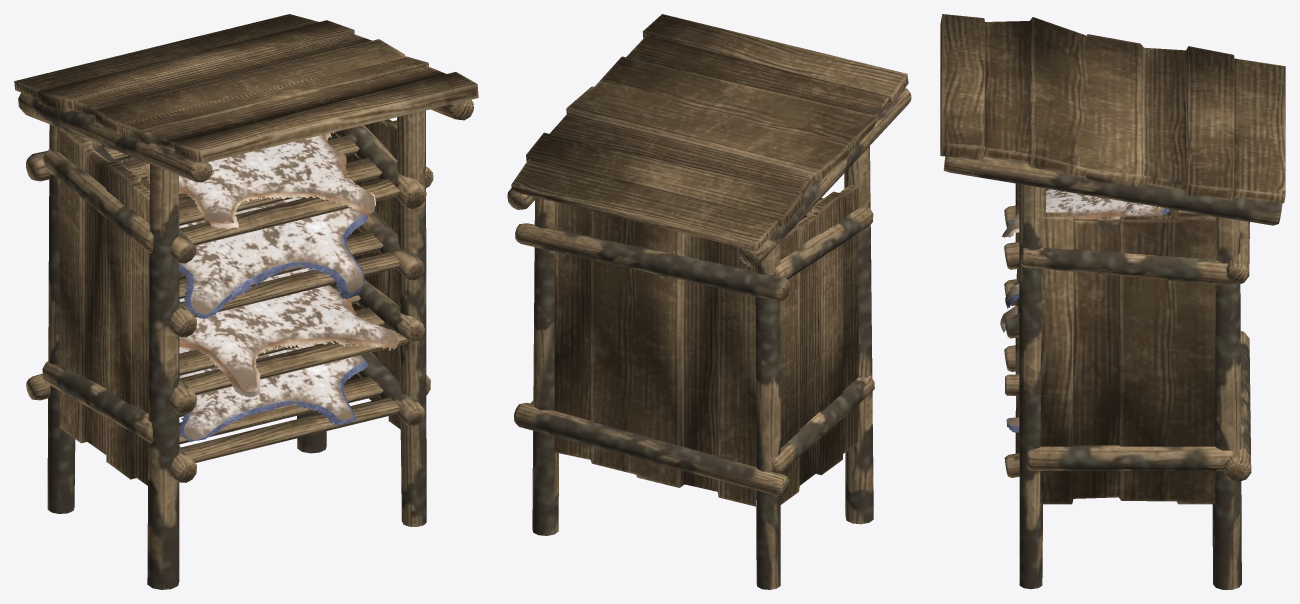
File: drying_rack.glb
3 views of the same model, side by side, from view 1: azimuth 30°, elevation 25°; view 2: azimuth 150°, elevation 25°; view 3: azimuth 270°, elevation 25° (orthographic). The views are drawn at different scales.
Parts seen in each view (by area): view 1: npc_props_drying_rack_01; view 2: npc_props_drying_rack_01; view 3: npc_props_drying_rack_01.
Boxes of the visible parts, x1,y1,x2,y2 form: npc_props_drying_rack_01: (14,14,478,589); npc_props_drying_rack_01: (507,14,911,589); npc_props_drying_rack_01: (940,14,1285,589).
Size of the model in its own units: 1.7 by 2.54 by 1.77.
Materials: 5 (5 with a texture image).
